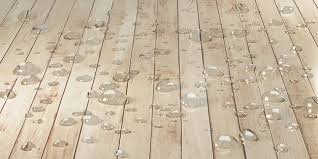Wet-floor: (0, 2, 315, 151)
